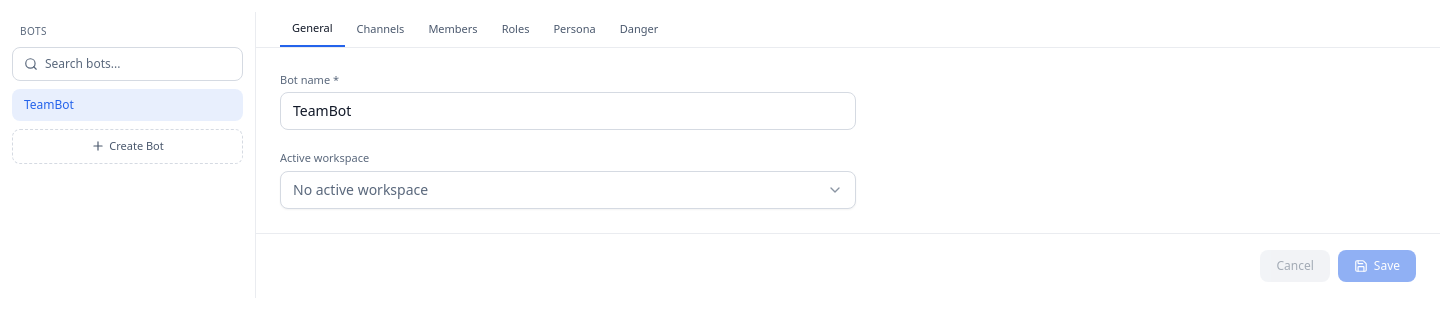
BotManagementPage › marks basic config dirty and enables Save/Cancel footer when name changes
Replace the text in the field with placeholder "My Bot" with "TeamBot v2". click: (568, 111)
box: top-left (280, 92), bottom-right (856, 130)
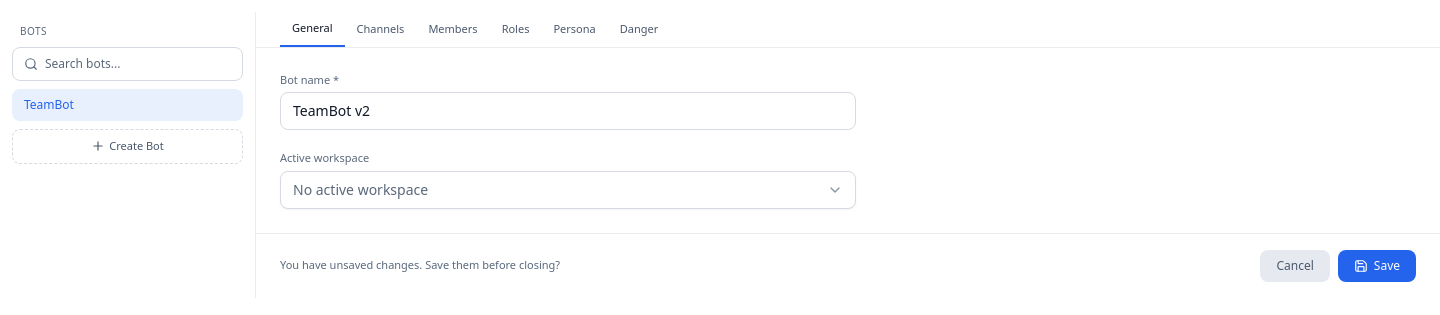
Check: the button "Save" is enabled, box top-left (1338, 250), bottom-right (1416, 282)
Check: the button "Cancel" is enabled, box top-left (1260, 250), bottom-right (1330, 282)
